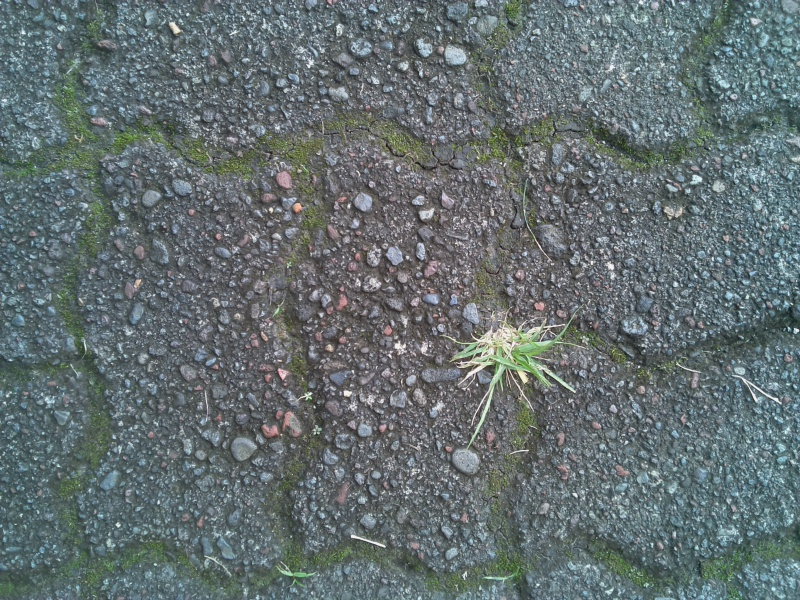Weed: (438, 316, 574, 410), (266, 549, 327, 593), (481, 568, 525, 594), (309, 420, 329, 443), (298, 386, 320, 406), (578, 332, 592, 350)
